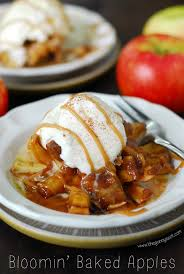apple: (117, 35, 182, 112)
